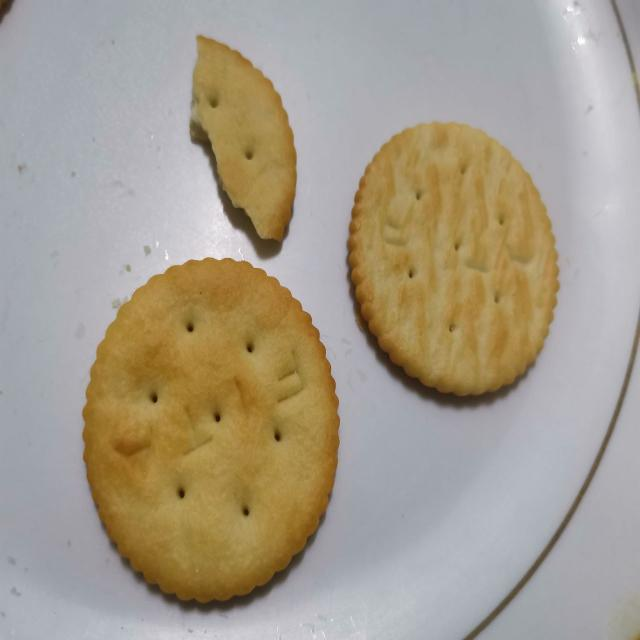broken biscuit: (165, 23, 308, 257)
intact biscuit: (81, 254, 341, 605), (346, 119, 560, 398)
